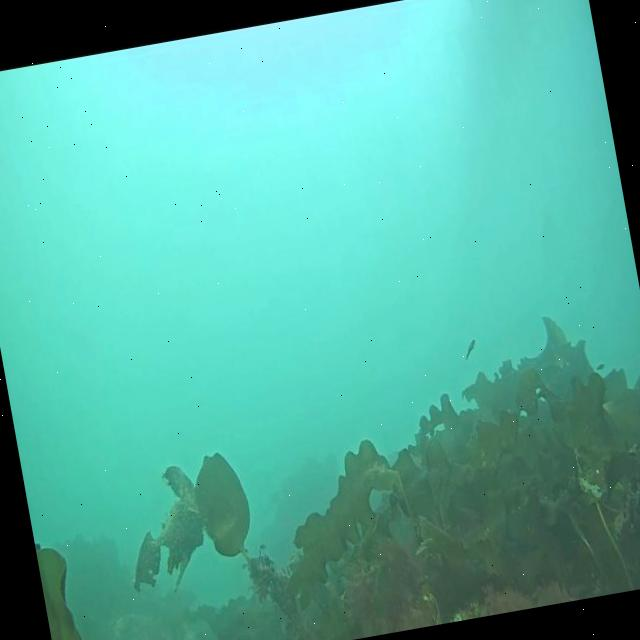fish: (462, 336, 478, 358), (595, 362, 605, 371)
